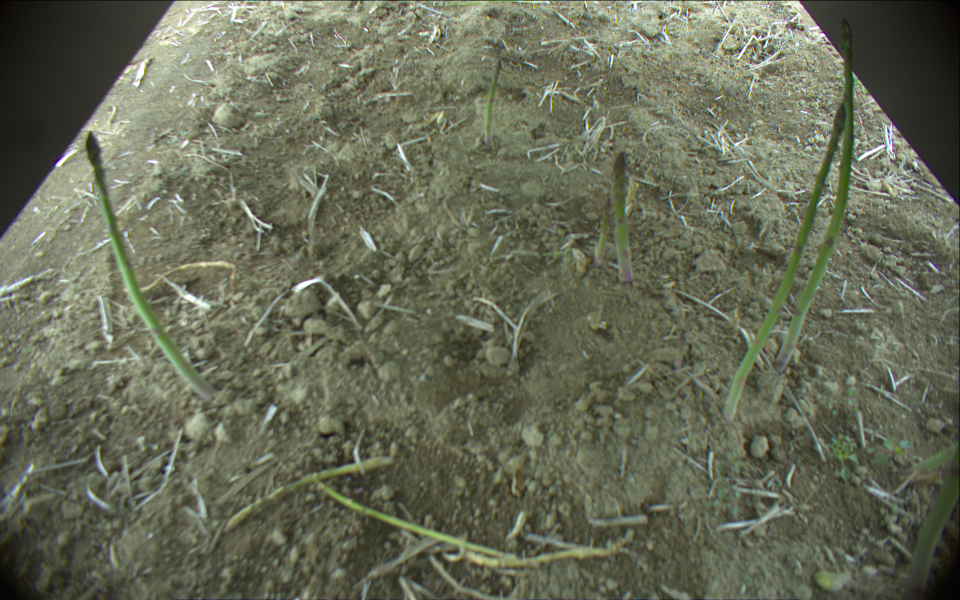aspa: (723, 102, 846, 422), (85, 134, 215, 401), (776, 16, 856, 367), (318, 485, 517, 558), (218, 455, 394, 536), (902, 434, 960, 599), (467, 548, 621, 573), (610, 145, 637, 285), (484, 58, 505, 147), (596, 192, 613, 263)
